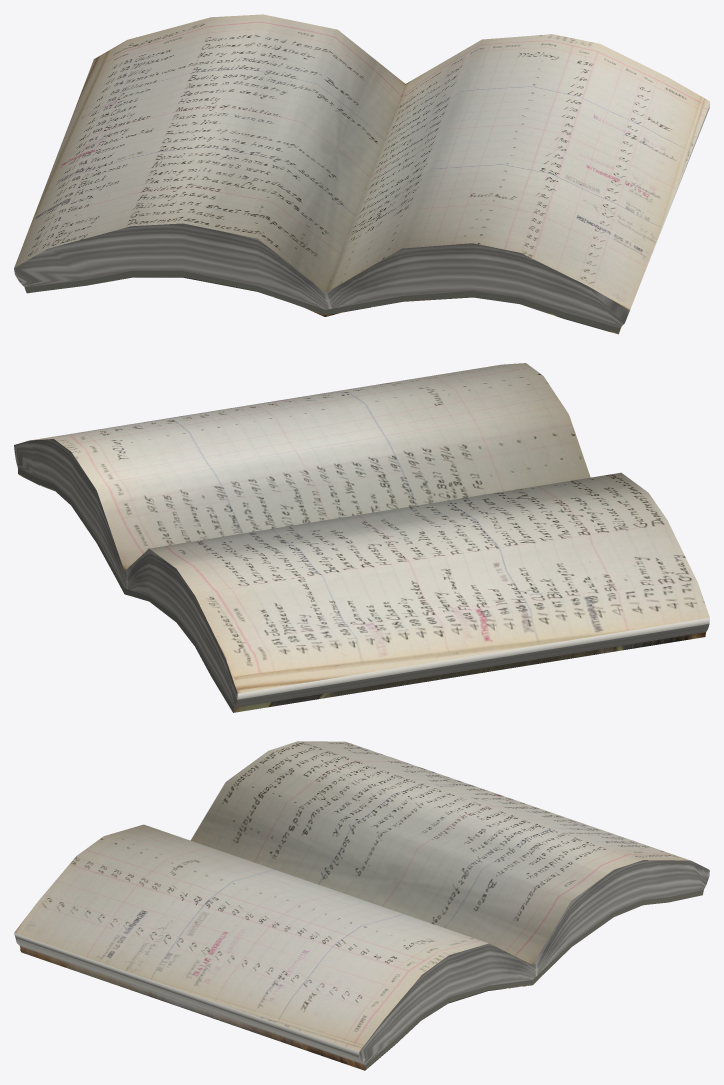
Rendered from ledger.fbx.
3 renders of one model, top to bottom at view 1: azimuth 30°, elevation 25°; view 2: azimuth 150°, elevation 25°; view 3: azimuth 270°, elevation 25°, orthographic. The views are drawn at different scales.
Parts seen in each view (by area): view 1: ledger; view 2: ledger; view 3: ledger.
Boxes of the visible parts, <box> form: ledger: <box>14,14,709,334</box>; ledger: <box>14,363,709,712</box>; ledger: <box>14,741,709,1070</box>.
Size of the model in its own units: 0.6151 by 0.0712 by 0.6015.
